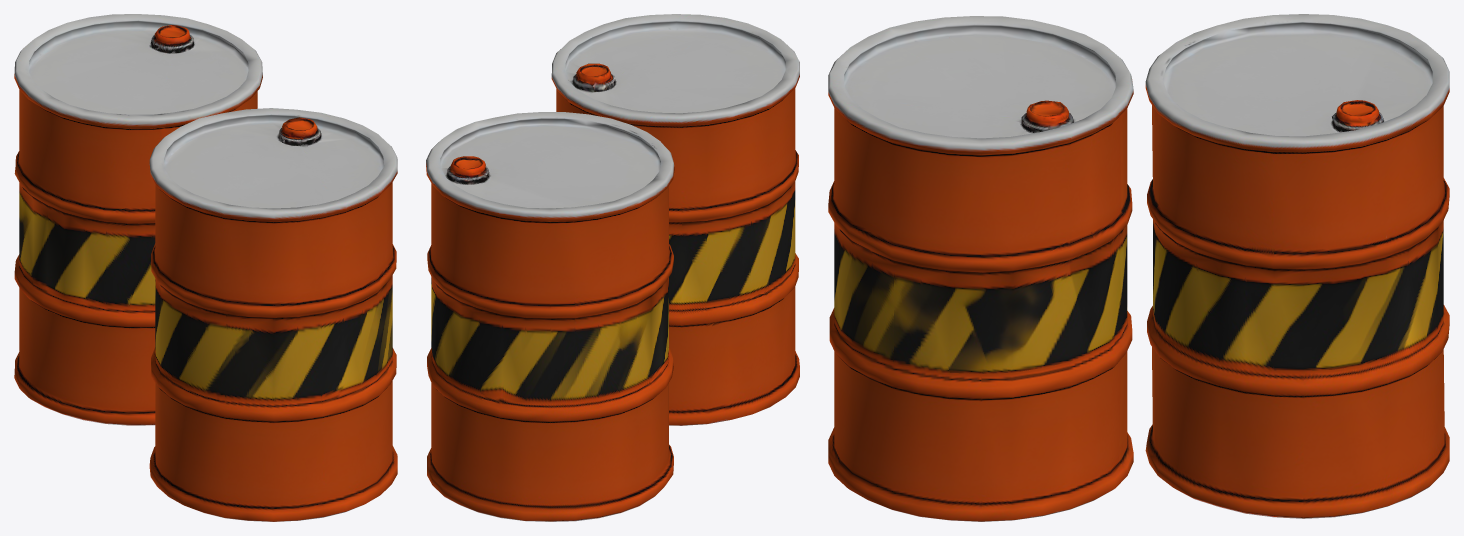
File: drums.glb
3 renders of one model, left to right at view 1: azimuth 30°, elevation 25°; view 2: azimuth 150°, elevation 25°; view 3: azimuth 270°, elevation 25°, orthographic. The views are drawn at different scales.
Parts seen in each view (by area): view 1: tripo_node_0b1da8d0-6262-4d2d-afa2-eda41aa1bf87; view 2: tripo_node_0b1da8d0-6262-4d2d-afa2-eda41aa1bf87; view 3: tripo_node_0b1da8d0-6262-4d2d-afa2-eda41aa1bf87.
Part boxes in pixels (left/top/right/bottom): tripo_node_0b1da8d0-6262-4d2d-afa2-eda41aa1bf87: left=14, top=14, right=397, bottom=521; tripo_node_0b1da8d0-6262-4d2d-afa2-eda41aa1bf87: left=426, top=14, right=799, bottom=521; tripo_node_0b1da8d0-6262-4d2d-afa2-eda41aa1bf87: left=828, top=14, right=1449, bottom=521.
Bounding box in the file's own units: 0.6666 × 0.9 × 1.33.
1 material, 1 textured.
